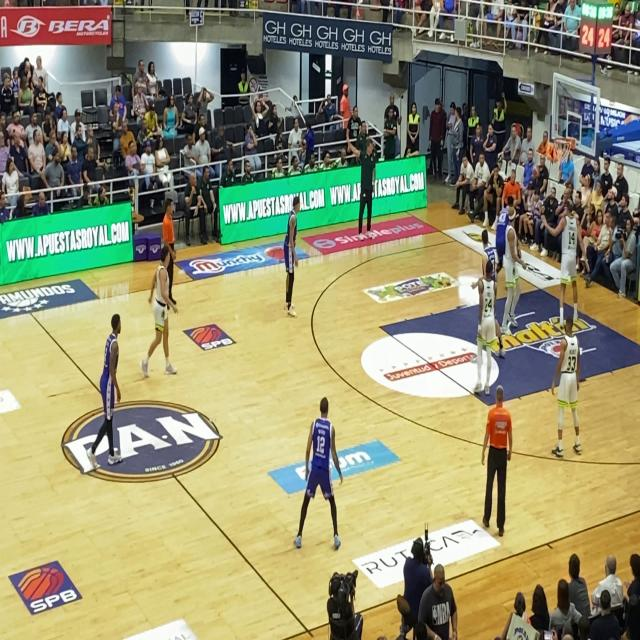referee: (474, 376, 516, 534)
team1: (550, 309, 584, 452), (497, 202, 525, 339)
team2: (297, 393, 344, 562)
ubasket: (553, 136, 573, 166)
